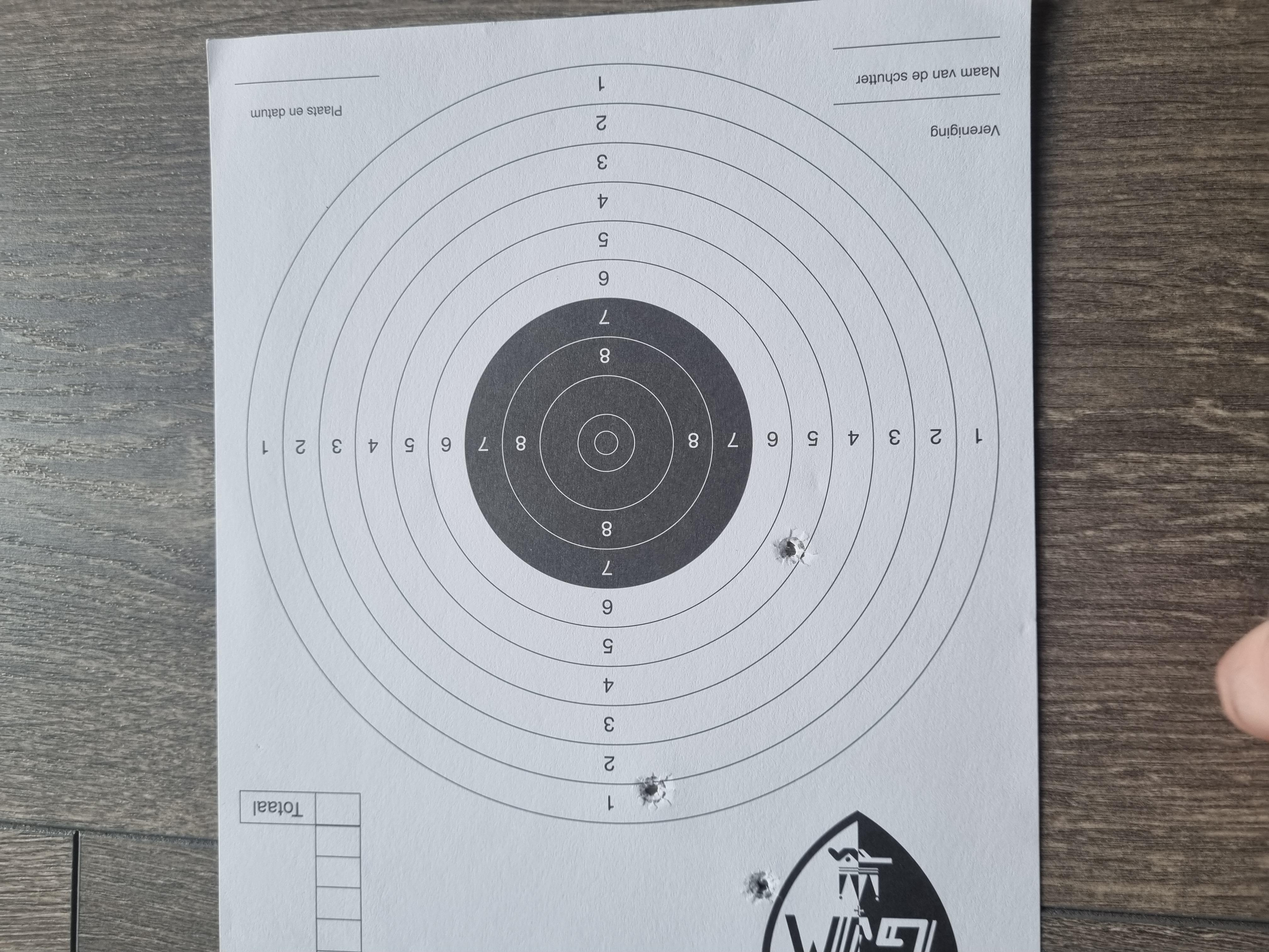hole: (63, 556, 110, 586), (512, 578, 555, 607), (190, 477, 239, 502)
